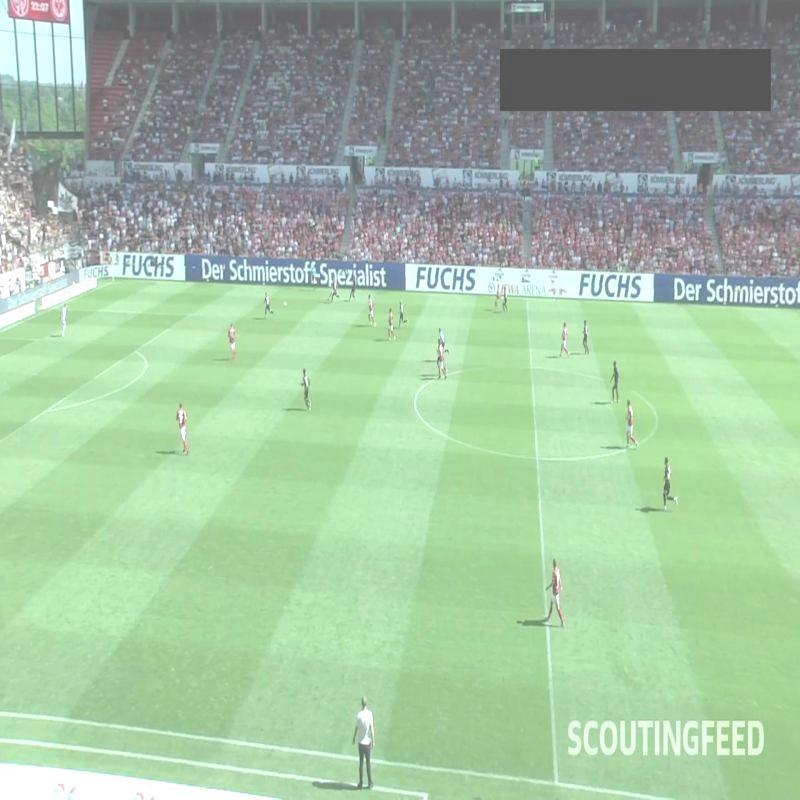1: (106, 276, 120, 290)
10: (125, 342, 146, 362)
11: (32, 401, 56, 420)
13: (521, 292, 535, 306)
14: (524, 357, 538, 371)
15: (530, 449, 544, 463)
16: (548, 774, 564, 792)
2: (46, 302, 60, 316)
7: (32, 332, 46, 345)
9: (183, 307, 197, 321)
c: (648, 404, 667, 426), (405, 390, 425, 408)
